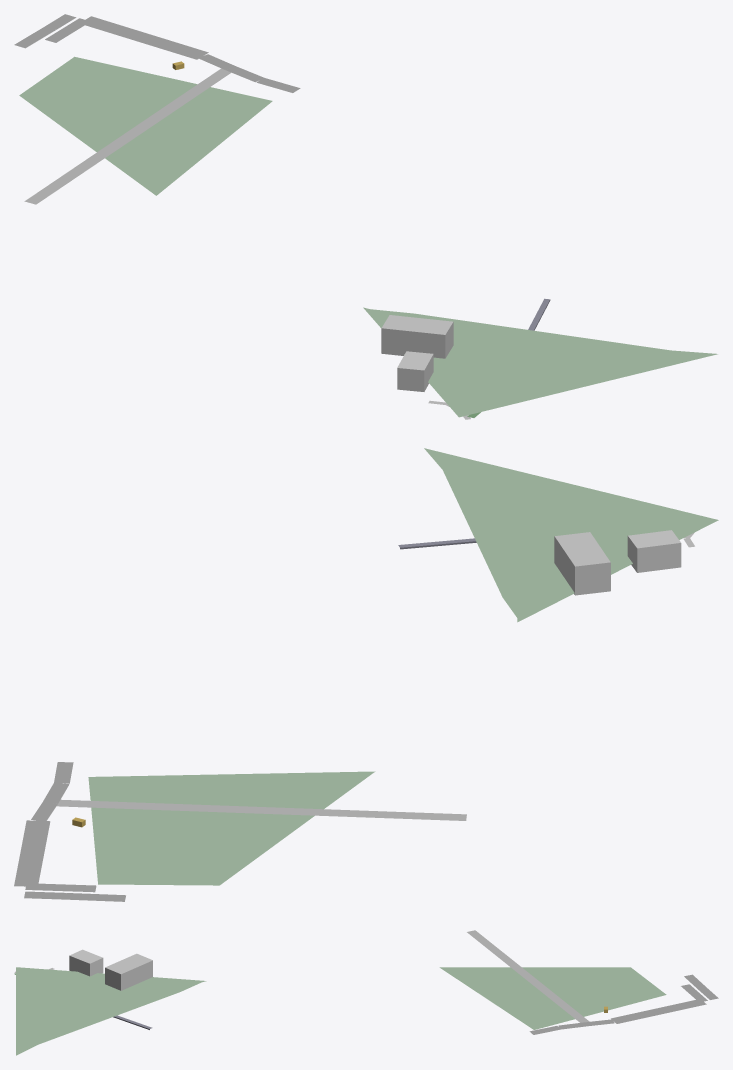
The picture shows the model from 3 angles, top to bottom: view 1: azimuth 30°, elevation 25°; view 2: azimuth 150°, elevation 25°; view 3: azimuth 270°, elevation 25°; orthographic projection. The views are drawn at different scales.
Bounding box in the file's own units: 210 × 15.6 × 502.
